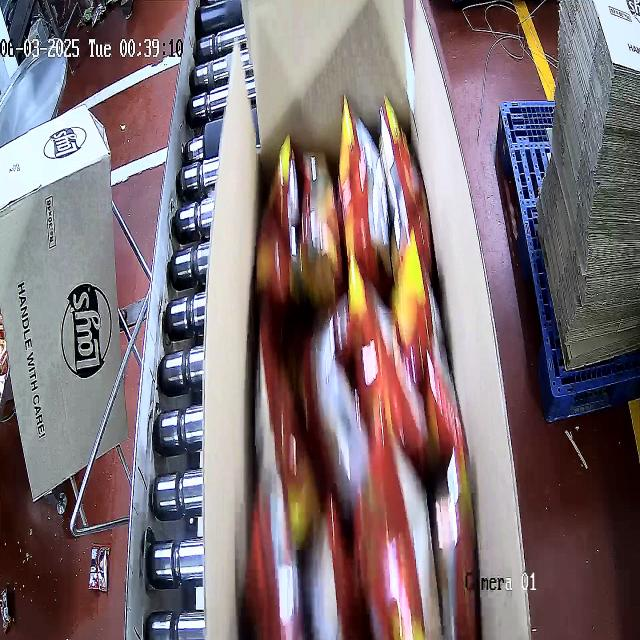MASALA: (248, 92, 479, 638)
